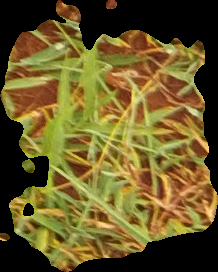grass: (1, 1, 217, 271)
